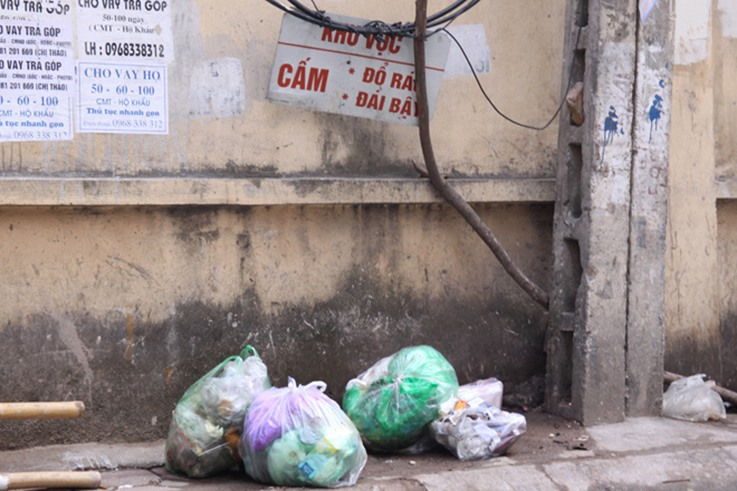plastic bag: (240, 382, 371, 487), (167, 345, 269, 478), (342, 342, 460, 451), (429, 378, 530, 461), (661, 373, 725, 424)
